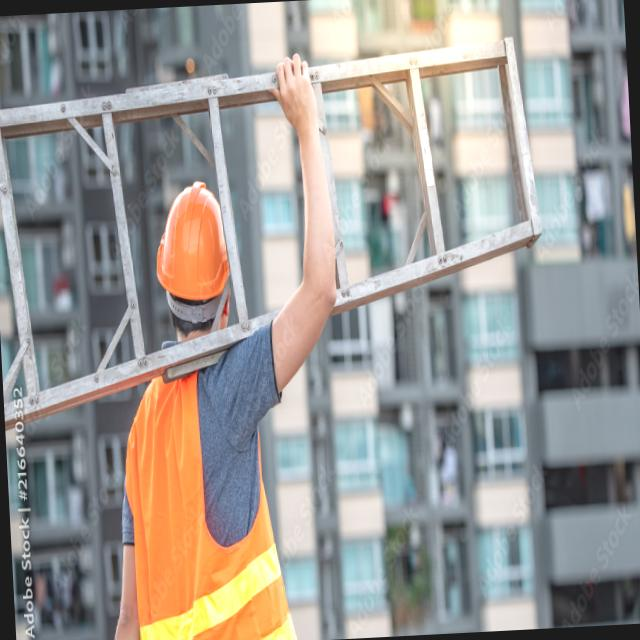helmet: (145, 170, 234, 322)
vest: (127, 358, 294, 640)
